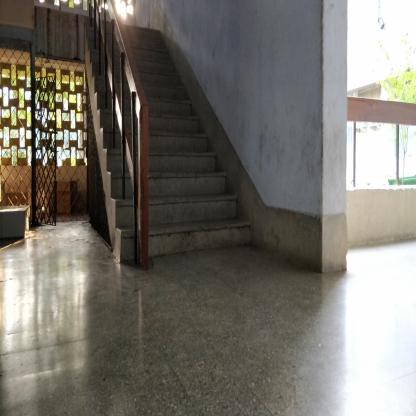stairs: (151, 94, 181, 268)
